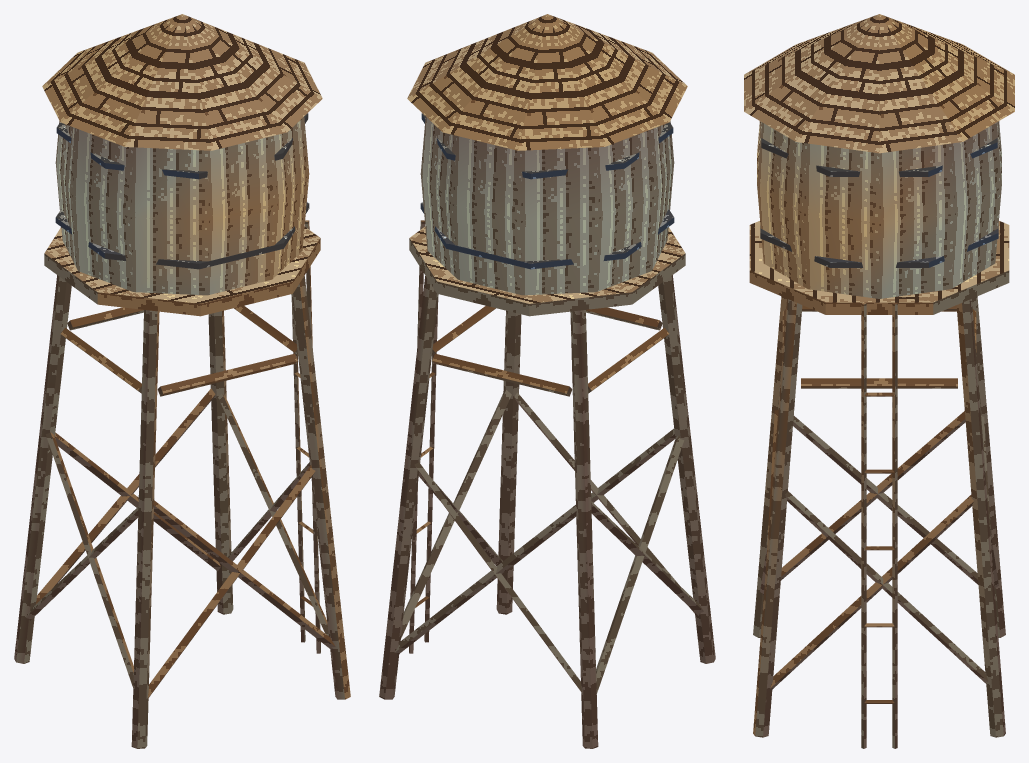
The model's file is wtown.water_tower__tall.glb.
3 views of the same model, side by side, from view 1: azimuth 30°, elevation 25°; view 2: azimuth 150°, elevation 25°; view 3: azimuth 270°, elevation 25° (orthographic).
Visible parts, largest first — view 1: kit_tank, kit_cap, kit_legs, kit_bracing_x, kit_bracing, kit_deck, kit_girts, kit_hoops, kit_ladder; view 2: kit_tank, kit_cap, kit_legs, kit_bracing_x, kit_bracing, kit_deck, kit_girts, kit_hoops, kit_ladder; view 3: kit_tank, kit_cap, kit_legs, kit_deck, kit_ladder, kit_bracing_x, kit_bracing, kit_hoops, kit_girts, kit_rungs.
Boxes of the visible parts, box(x1,y1,x2,y2) form: kit_tank: box(55, 116, 309, 295); kit_cap: box(42, 14, 322, 150); kit_legs: box(14, 275, 350, 748); kit_bracing_x: box(36, 388, 335, 687); kit_bracing: box(26, 393, 328, 698); kit_deck: box(44, 226, 320, 316); kit_girts: box(60, 306, 297, 396); kit_hoops: box(55, 113, 309, 269); kit_ladder: box(291, 220, 320, 653); kit_tank: box(420, 116, 674, 295); kit_cap: box(407, 14, 687, 150); kit_legs: box(379, 275, 715, 748); kit_bracing_x: box(401, 389, 703, 692); kit_bracing: box(394, 392, 694, 693); kit_deck: box(409, 226, 685, 316); kit_girts: box(432, 306, 669, 396); kit_hoops: box(420, 113, 674, 269); kit_ladder: box(409, 220, 438, 653); kit_tank: box(757, 121, 1001, 298); kit_cap: box(744, 14, 1014, 153); kit_legs: box(753, 296, 1005, 737); kit_deck: box(749, 221, 1009, 314); kit_ladder: box(861, 302, 897, 748); kit_bracing_x: box(766, 410, 998, 683); kit_bracing: box(760, 415, 991, 689); kit_hoops: box(760, 138, 998, 267); kit_girts: box(782, 305, 976, 388); kit_rungs: box(864, 392, 894, 703).
Size of the model in its own units: 4.72 by 11.86 by 4.34.
5 materials, 5 textured.
